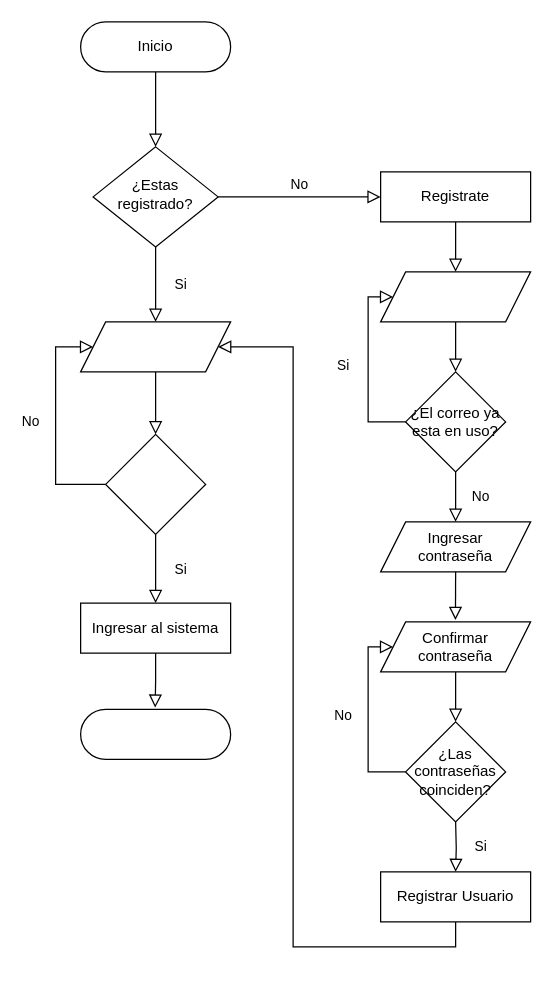
Some shapes in this 553 by 981 pixel diagram are drawn without their labels. Each missing label, with the box of its shape:
Fin: (79, 708, 231, 759)
Ingresar correo electrónico: (379, 271, 531, 322)
Ingresar usuario y contraseña: (79, 321, 231, 372)
¿Los datos son correctos?: (104, 433, 206, 534)
